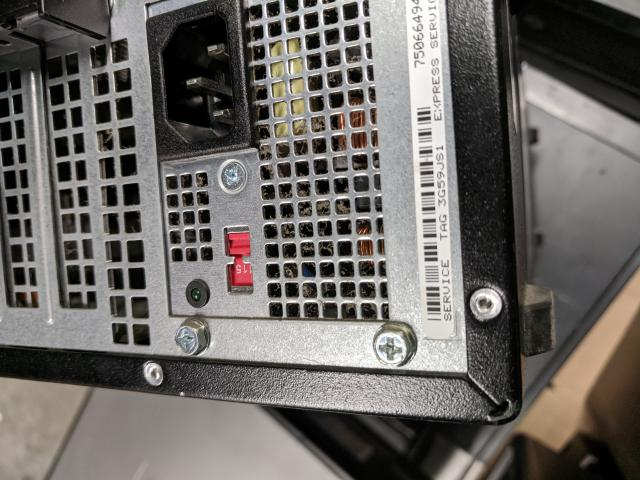CRS: (372, 322, 417, 368), (174, 320, 208, 354), (221, 163, 246, 192)
